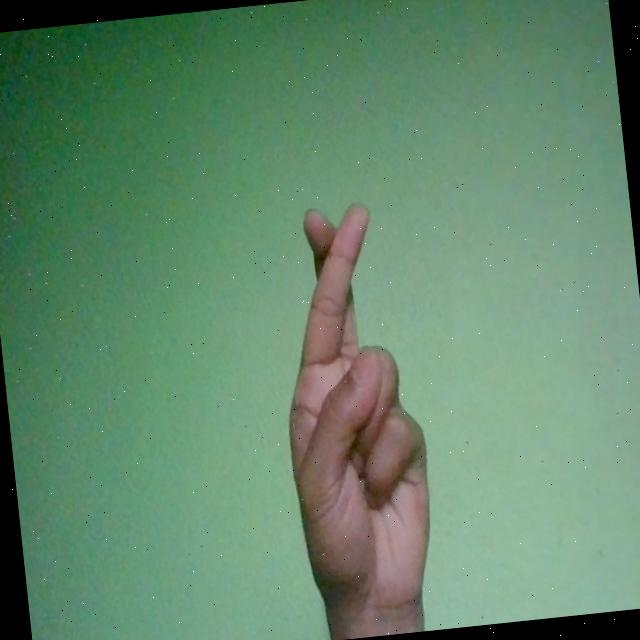Ok: (262, 194, 444, 628)
